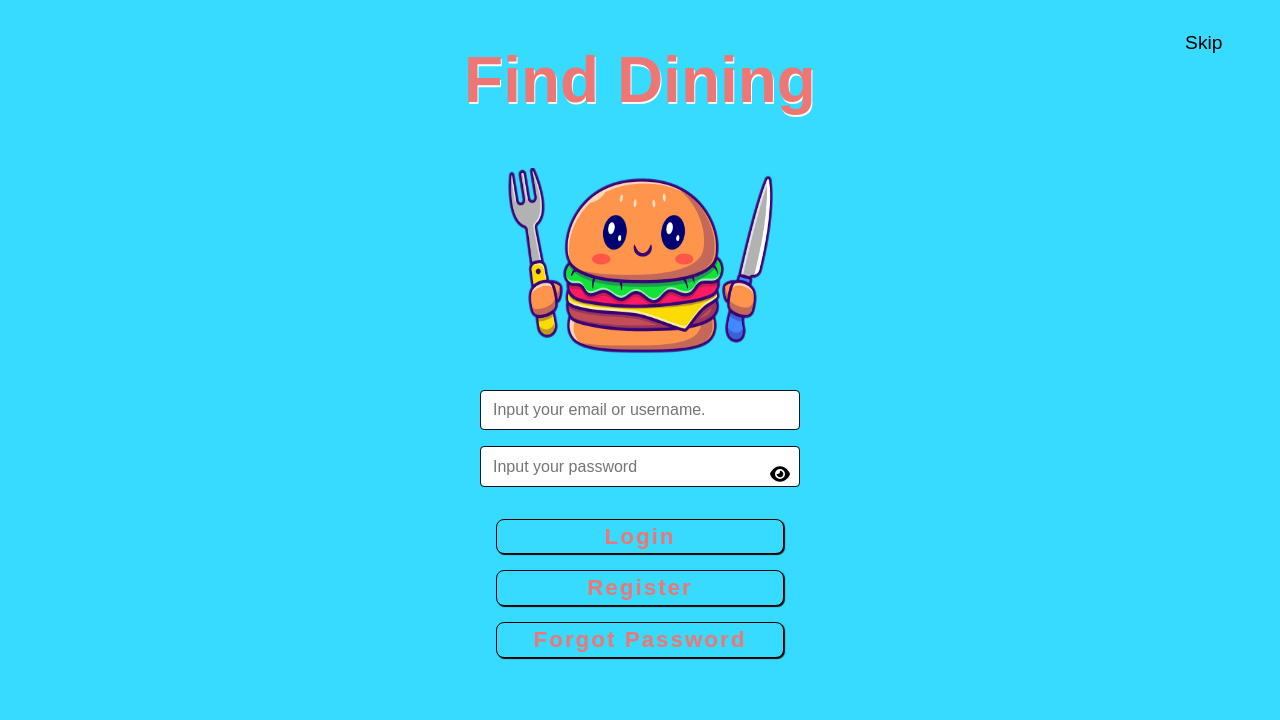
Test: Login component › Clicking Forgot Password shows the modal
Click the button "Forgot Password". click: (640, 640)
box: [496,622,784,658]
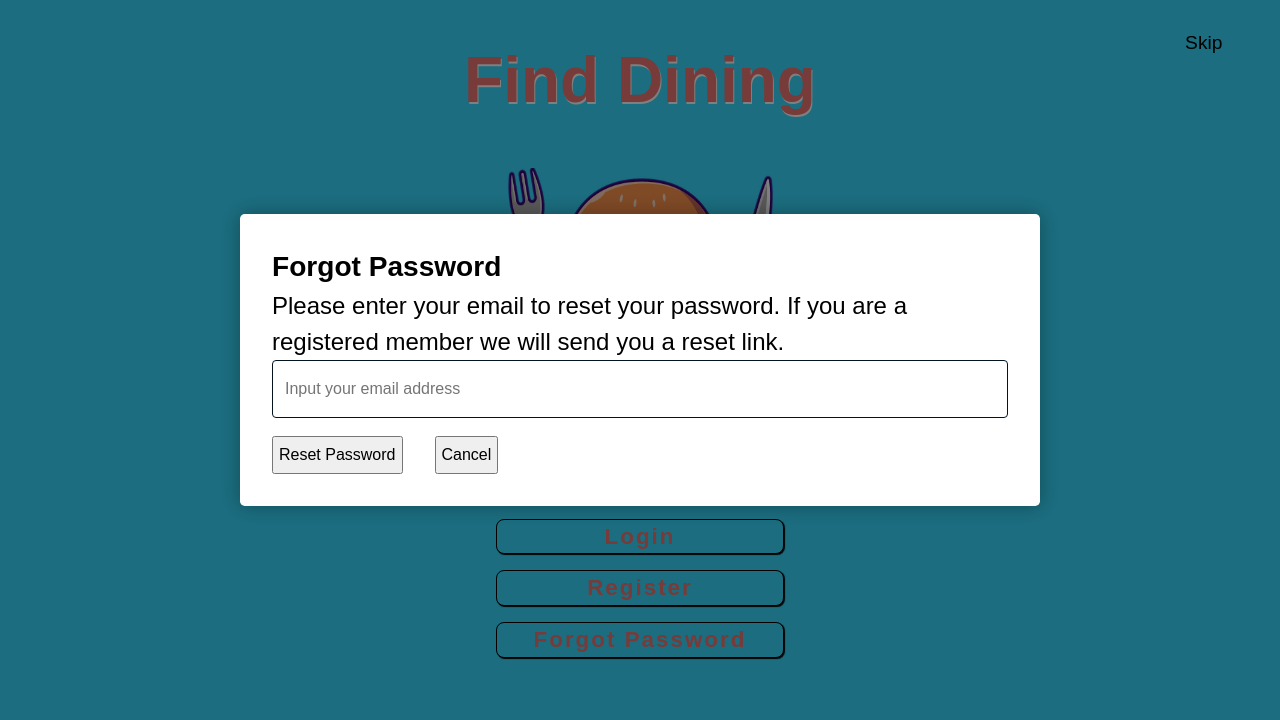
Now the text "Please enter your email to reset your password" is shown, box [272,292,907,355]
